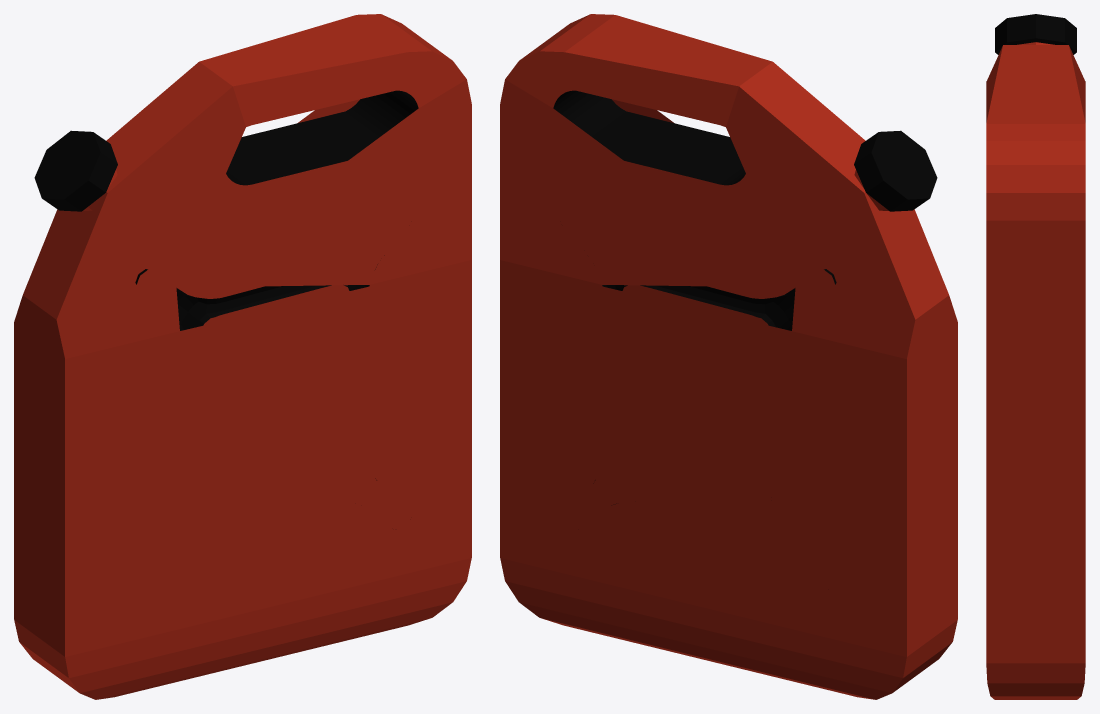
File: Канистра.fbx
The picture shows the model from 3 angles, left to right: view 1: azimuth 30°, elevation 25°; view 2: azimuth 150°, elevation 25°; view 3: azimuth 270°, elevation 25°; orthographic projection. The views are drawn at different scales.
Parts seen in each view (by area): view 1: Куб.001; view 2: Куб.001; view 3: Куб.001.
Part boxes in pixels (x1,y1,x2,y2): Куб.001: (14, 14, 471, 699); Куб.001: (500, 14, 957, 699); Куб.001: (986, 14, 1085, 699).
Size of the model in its own units: 237 by 324 by 51.56.
